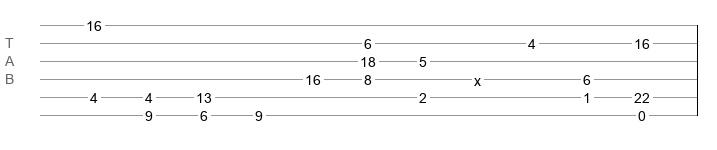0: (638, 108, 646, 118)
1: (583, 90, 591, 100)
13: (196, 90, 212, 100)
16: (86, 18, 102, 28), (305, 72, 321, 82), (634, 36, 650, 46)
18: (360, 54, 376, 64)
2: (419, 90, 427, 100)
22: (634, 90, 650, 100)
4: (90, 90, 98, 100), (145, 90, 153, 100), (528, 36, 536, 46)
5: (419, 54, 427, 64)
6: (200, 108, 208, 118), (364, 36, 372, 46), (583, 72, 591, 82)
8: (364, 72, 372, 82)
9: (145, 108, 153, 118), (255, 108, 263, 118)
x: (474, 73, 481, 81)
